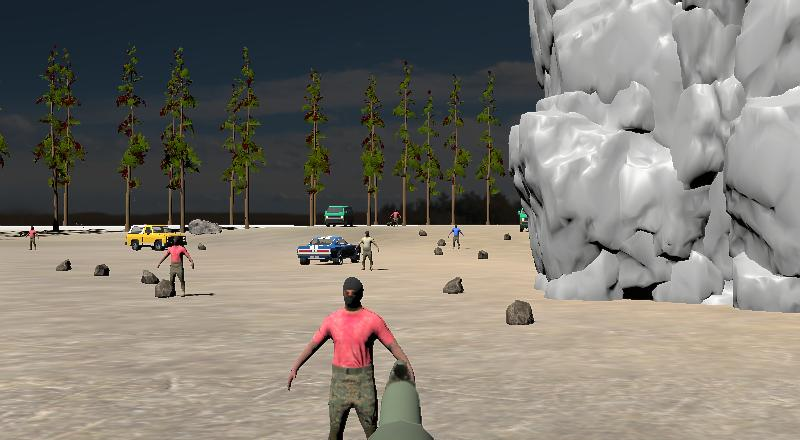Human: (281, 272, 418, 439), (156, 235, 198, 299), (357, 229, 381, 273), (447, 222, 465, 251), (26, 224, 40, 252)
car: (294, 233, 362, 268), (122, 222, 188, 253), (123, 222, 188, 253), (321, 202, 355, 229)
